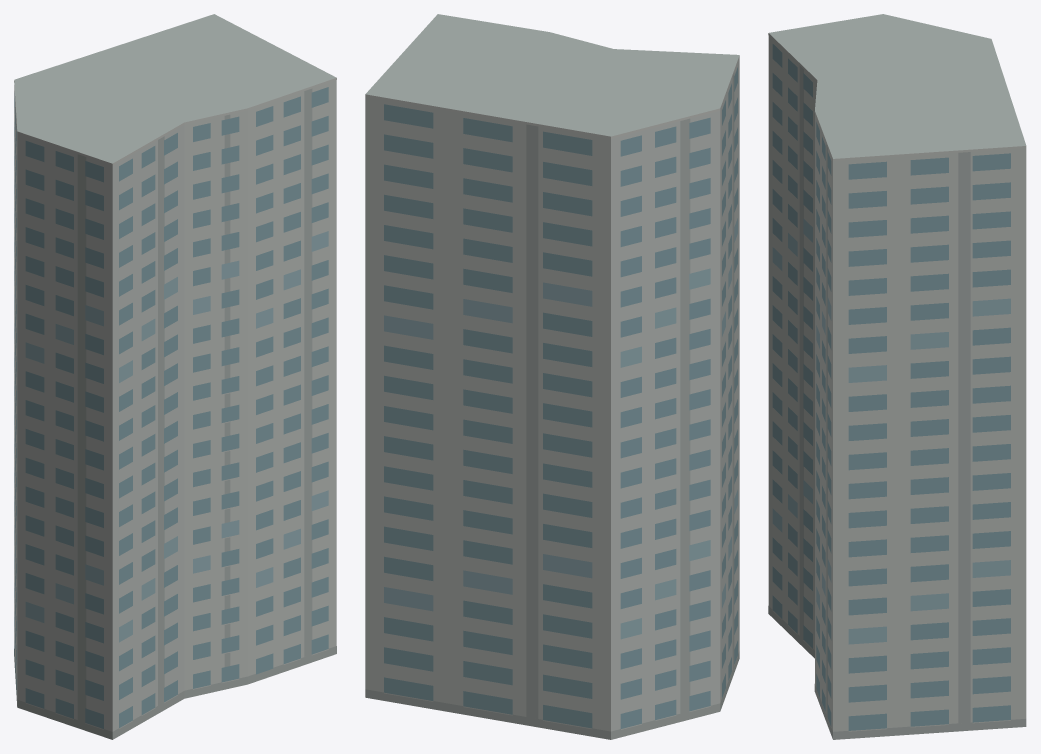
File: residential-da78589b-0fe1-42cf-978d-e29febe13e4f.glb
The picture shows the model from 3 angles, left to right: view 1: azimuth 30°, elevation 25°; view 2: azimuth 150°, elevation 25°; view 3: azimuth 270°, elevation 25°; orthographic projection. The views are drawn at different scales.
Visible parts, largest first — view 1: residential-da78589b-0fe1-42cf-978d-e29febe13e4f.tmp; view 2: residential-da78589b-0fe1-42cf-978d-e29febe13e4f.tmp; view 3: residential-da78589b-0fe1-42cf-978d-e29febe13e4f.tmp.
Boxes of the visible parts, <box> form: residential-da78589b-0fe1-42cf-978d-e29febe13e4f.tmp: <box>14,14,336,739</box>; residential-da78589b-0fe1-42cf-978d-e29febe13e4f.tmp: <box>365,14,739,739</box>; residential-da78589b-0fe1-42cf-978d-e29febe13e4f.tmp: <box>768,14,1026,739</box>.
Size of the model in its own units: 32.65 by 61 by 24.56.
